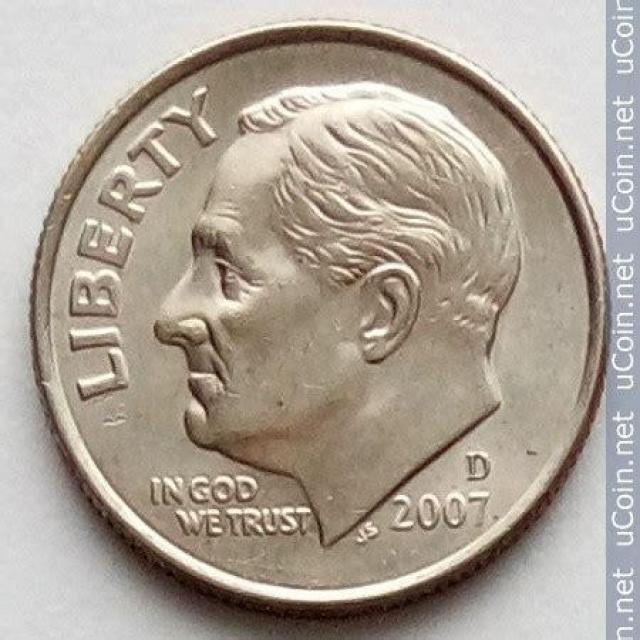Dime: (30, 17, 620, 623)
